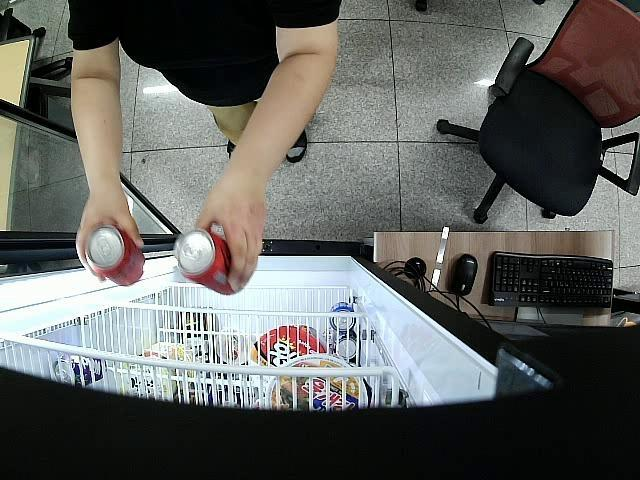11_cocaColaZero: (176, 230, 240, 296), (85, 225, 144, 284)
